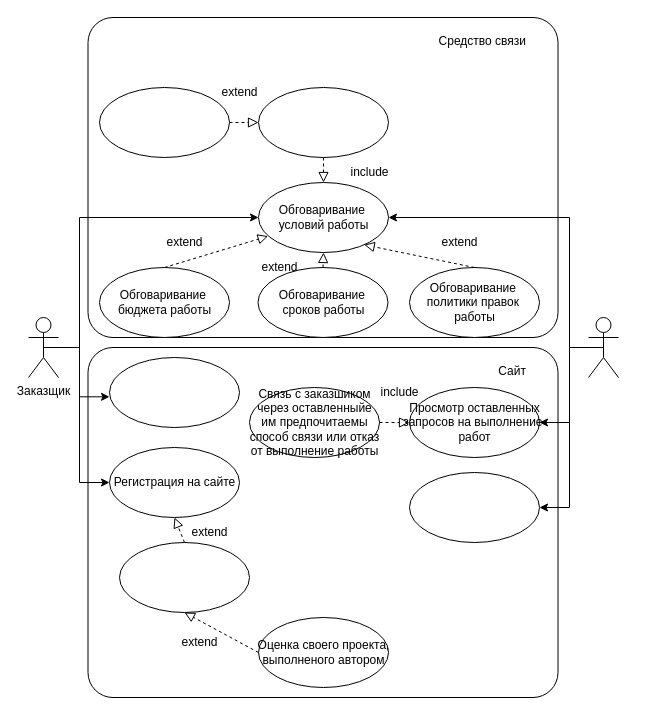
Image size: 652x715. Some labels were removed from this diagram. The shapes that lost their labels are listed below. From the top down, each one's centre as x and y in pixels, then its label:
point 164,122: Выполнение правок для работы
point 323,122: Выполнение работы
point 603,347: Владелец портфолио
point 174,392: Просмотр работ, выставленных на сайте
point 474,507: Выставление новых работ в портфолио
point 184,577: Оставление запроса с контактами для связи на выполнение работы автору портфолии
